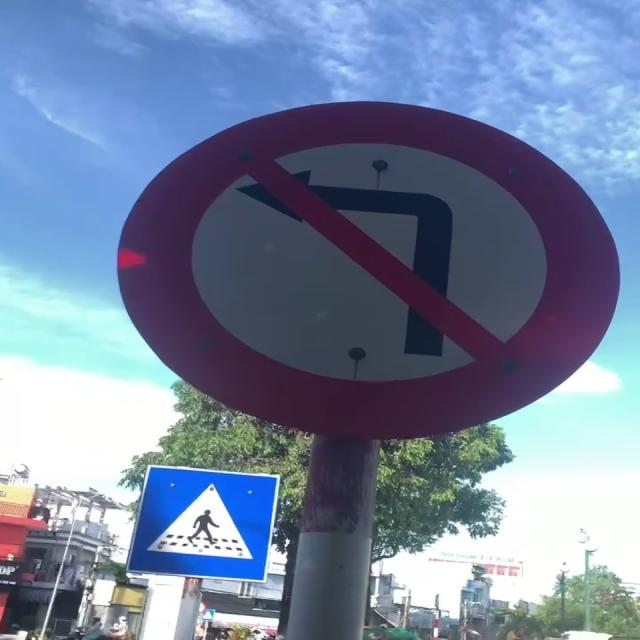Cam_Re_Trai: (112, 98, 621, 454)
